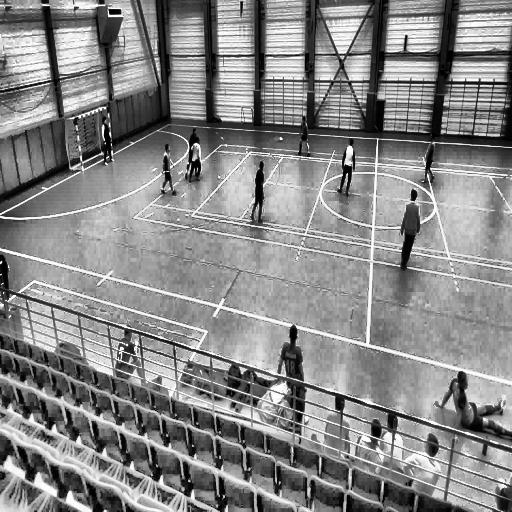ball: (278, 135, 284, 145)
player: (277, 323, 305, 406), (398, 186, 421, 272), (336, 137, 356, 197), (249, 160, 266, 225), (183, 124, 199, 181), (161, 143, 177, 196), (422, 130, 436, 184), (187, 134, 202, 184), (100, 114, 113, 165), (297, 114, 311, 158)
